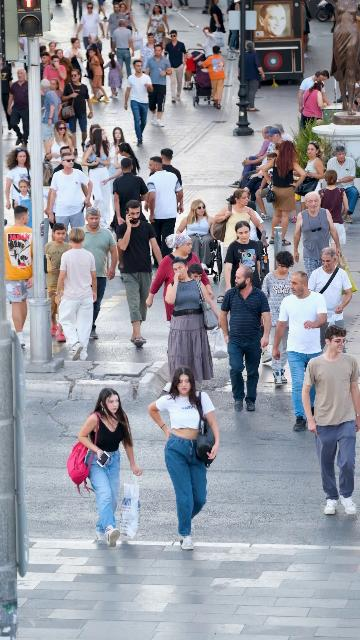person: (147, 367, 220, 552), (301, 325, 360, 516), (77, 387, 143, 548), (272, 271, 328, 432), (164, 257, 221, 394), (219, 266, 272, 413), (116, 200, 163, 348), (73, 207, 119, 342), (146, 233, 215, 320), (54, 227, 98, 360), (307, 247, 354, 354), (260, 251, 296, 386), (262, 141, 306, 245), (293, 191, 343, 280), (5, 205, 35, 349), (44, 155, 93, 242), (216, 221, 266, 305), (145, 156, 184, 260), (226, 152, 278, 220), (82, 129, 115, 229), (238, 126, 285, 195), (45, 224, 72, 343), (176, 199, 216, 273), (215, 189, 266, 247), (112, 158, 150, 234), (61, 69, 93, 156), (316, 169, 349, 253), (228, 125, 272, 188), (123, 60, 154, 147), (325, 146, 358, 223), (142, 44, 172, 127), (100, 142, 141, 194), (4, 148, 31, 226), (298, 70, 330, 131), (197, 46, 226, 110), (110, 19, 135, 93), (239, 41, 265, 112), (8, 69, 30, 150), (159, 148, 185, 214), (40, 79, 60, 162), (164, 30, 187, 102), (45, 121, 73, 174), (85, 48, 110, 103), (63, 38, 89, 89), (302, 81, 330, 126), (302, 141, 325, 190), (105, 3, 126, 52), (12, 179, 32, 229), (147, 4, 170, 47), (108, 127, 126, 181), (52, 147, 82, 178), (79, 0, 101, 42), (104, 52, 124, 98), (83, 33, 104, 72), (82, 124, 102, 163), (210, 0, 228, 42), (139, 33, 155, 79), (183, 50, 200, 90), (118, 2, 139, 34), (56, 49, 72, 78), (272, 123, 293, 143), (50, 78, 64, 105), (188, 263, 206, 283), (40, 52, 51, 79), (98, 0, 108, 21), (48, 41, 57, 56)
